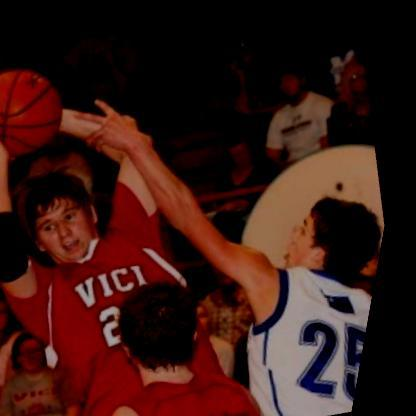basketball: (0, 47, 90, 178)
